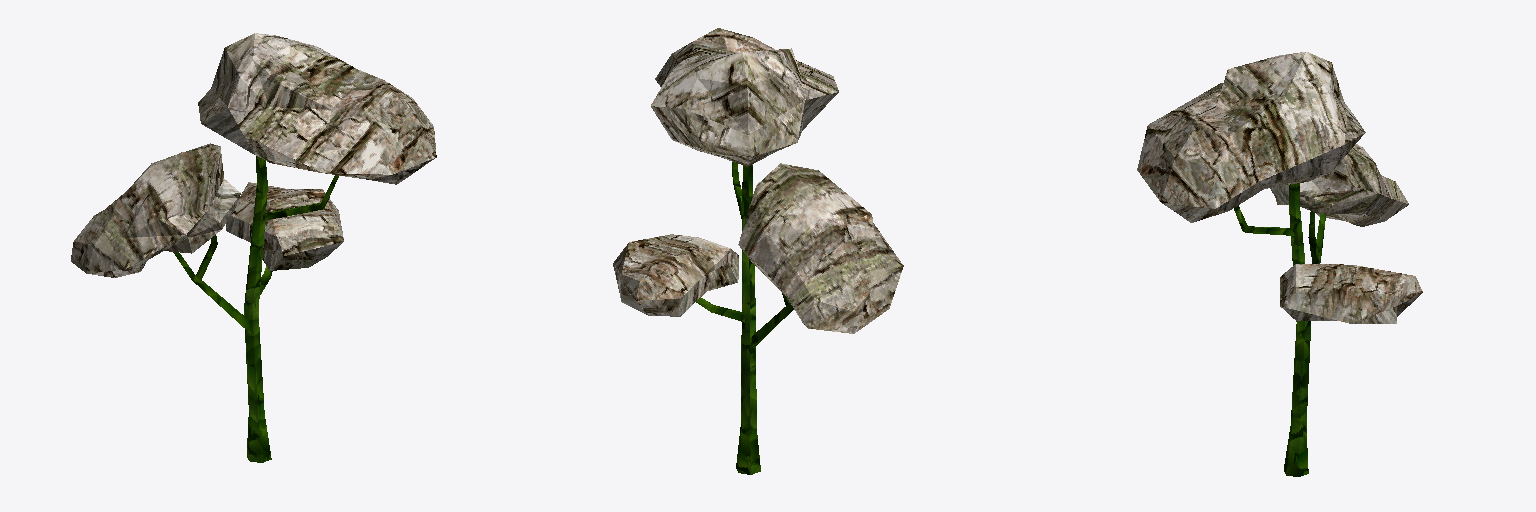
3 renders of one model, left to right at view 1: azimuth 30°, elevation 25°; view 2: azimuth 150°, elevation 25°; view 3: azimuth 270°, elevation 25°, orthographic.
Parts seen in each view (by area): view 1: Tree_temp_climate_008_Mesh.007; view 2: Tree_temp_climate_008_Mesh.007; view 3: Tree_temp_climate_008_Mesh.007.
Part boxes in pixels (bbox=[...]): Tree_temp_climate_008_Mesh.007: bbox=[71, 33, 436, 462]; Tree_temp_climate_008_Mesh.007: bbox=[613, 28, 903, 474]; Tree_temp_climate_008_Mesh.007: bbox=[1137, 52, 1422, 476].
Bounding box in the file's own units: 3.56 × 4.92 × 3.03.
1 materials, 1 textured.